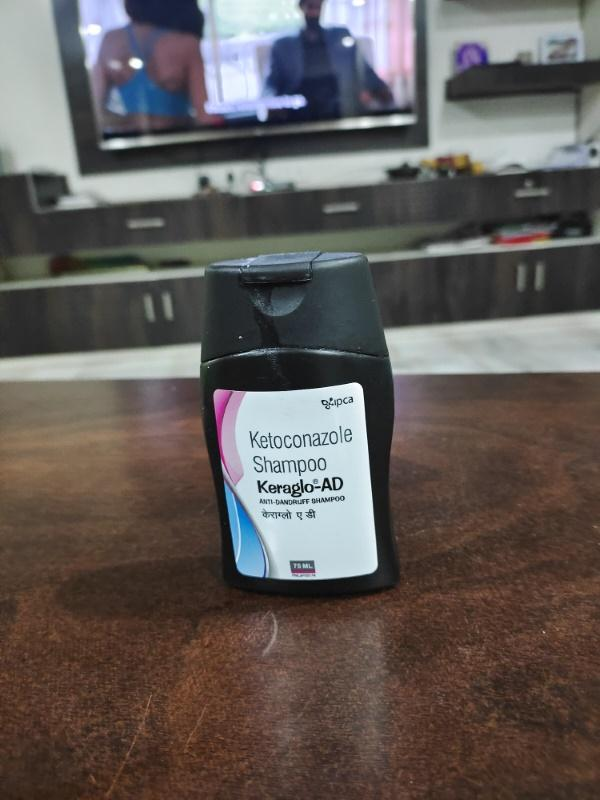KeraGlo: (188, 245, 407, 598)
